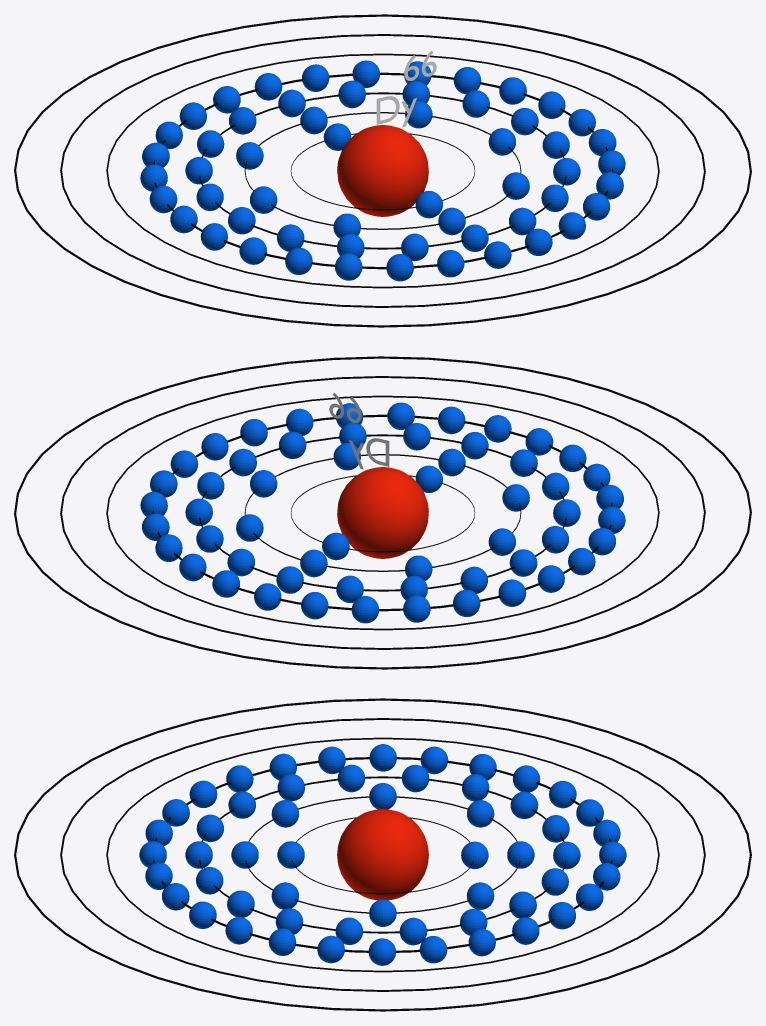
3 renders of one model, top to bottom at view 1: azimuth 30°, elevation 25°; view 2: azimuth 150°, elevation 25°; view 3: azimuth 270°, elevation 25°, orthographic.
Visible parts, largest first — view 1: Dy4, Dy3, Proton, n7, Dy2, n6, n5, Dy1, n4, n3, n2; view 2: Dy4, Dy3, Proton, n7, Dy2, n6, n5, Dy1, n4, n3, n2; view 3: Dy4, Dy3, Proton, Dy2, n7, n6, n5, Dy1, n4, n3, n2, n1.
Part boxes in pixels (x1,y1,x2,y2): Dy4: [140, 60, 625, 281]; Dy3: [185, 80, 580, 261]; Proton: [337, 125, 428, 216]; n7: [14, 14, 751, 327]; Dy2: [236, 101, 529, 238]; n6: [60, 34, 705, 307]; n5: [106, 53, 659, 288]; Dy1: [323, 123, 442, 218]; n4: [153, 72, 613, 269]; n3: [199, 92, 566, 249]; n2: [244, 112, 521, 229]; Dy4: [140, 402, 625, 623]; Dy3: [185, 422, 580, 602]; Proton: [337, 467, 428, 558]; n7: [14, 356, 751, 669]; Dy2: [236, 443, 529, 580]; n6: [60, 376, 705, 649]; n5: [106, 395, 659, 630]; Dy1: [322, 465, 442, 560]; n4: [152, 414, 612, 611]; n3: [199, 434, 566, 591]; n2: [244, 454, 521, 571]; Dy4: [139, 744, 626, 965]; Dy3: [185, 764, 580, 945]; Proton: [337, 809, 428, 900]; Dy2: [231, 783, 534, 926]; n7: [14, 698, 751, 1011]; n6: [60, 718, 705, 991]; n5: [106, 737, 659, 972]; Dy1: [277, 841, 488, 869]; n4: [153, 757, 612, 952]; n3: [199, 776, 566, 933]; n2: [245, 796, 520, 913]; n1: [292, 817, 473, 894].
Size of the model in its own units: 802 by 180 by 802.
